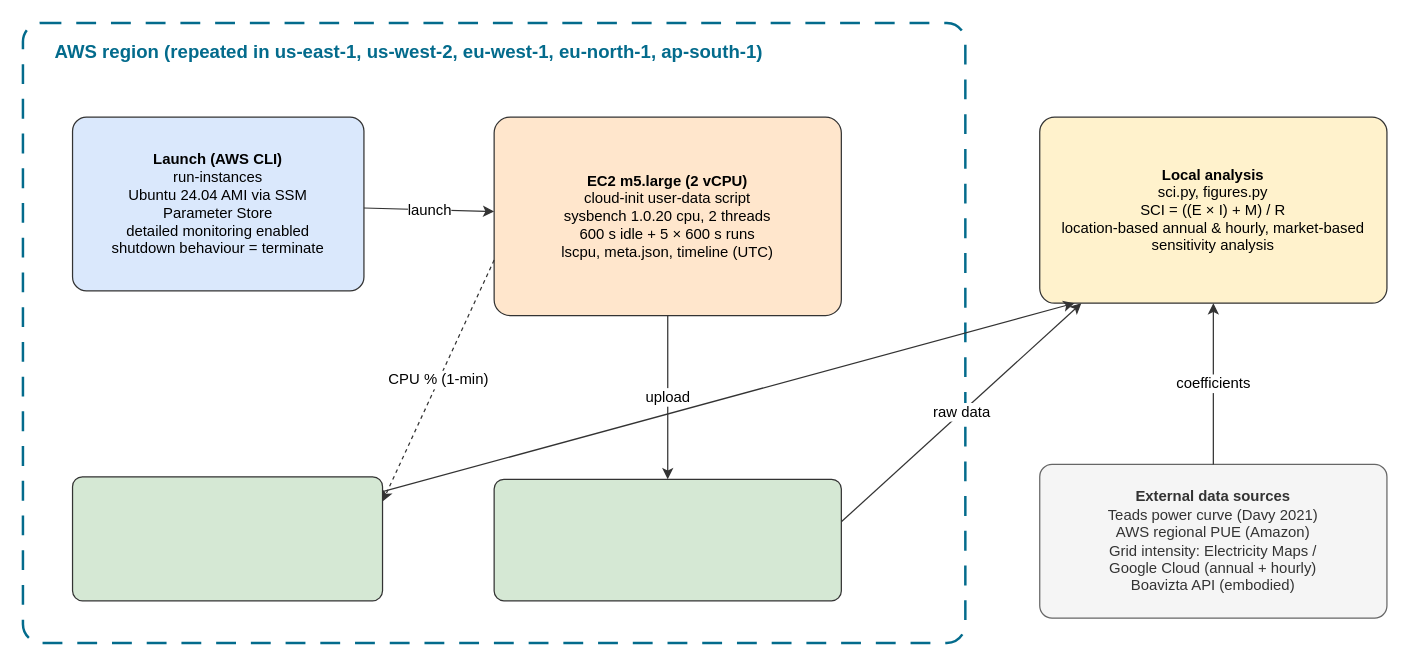
Image size: 1409x665. Some labels were removed from this diagram. Each missing label, with the centre of its shape:
"Amazon CloudWatch CPUUtilization, 1-minute hypervisor-side measurement" goes at (x=227, y=538).
"Amazon S3 (same region) sysbench output, lscpu, meta.json, timeline" goes at (x=667, y=539).
